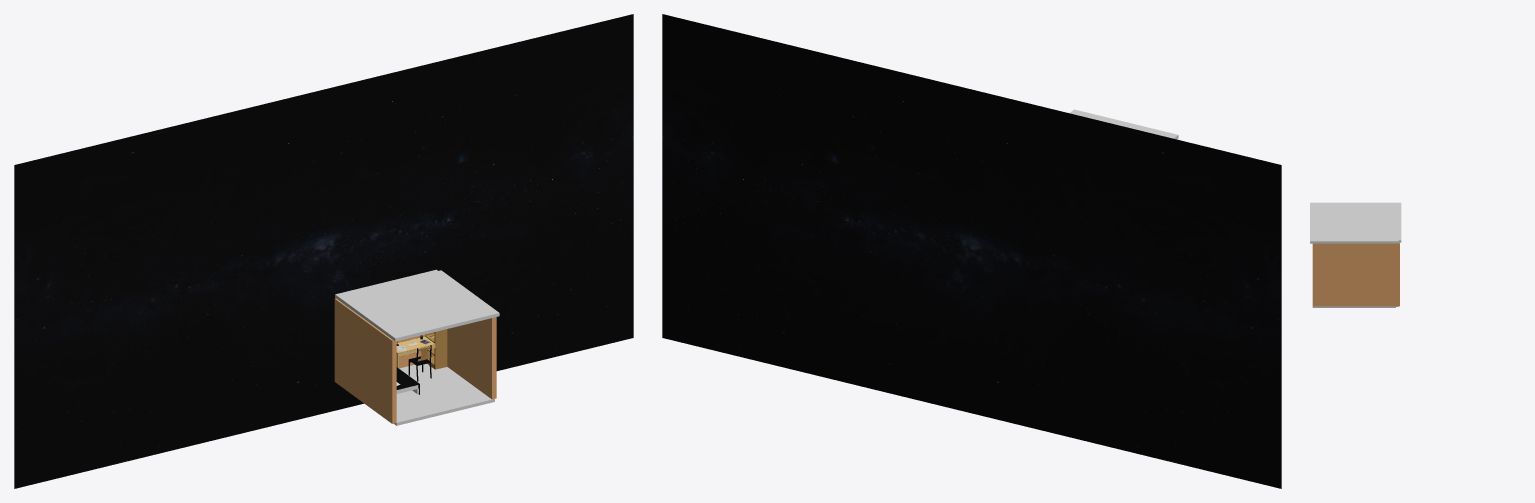
File: Escena2.glb
The picture shows the model from 3 angles, left to right: view 1: azimuth 30°, elevation 25°; view 2: azimuth 150°, elevation 25°; view 3: azimuth 270°, elevation 25°; orthographic projection. The views are drawn at different scales.
Parts seen in each view (by area): view 1: FondoUniverso, Techo, ParedLat.002, Piso, ParedLat.001; view 2: FondoUniverso; view 3: ParedLat.001, Techo.
Part boxes in pixels (x1,y1,x2,y2): FondoUniverso: (14,14,633,488); Techo: (335,269,499,341); ParedLat.002: (334,298,396,423); Piso: (394,363,494,425); ParedLat.001: (447,317,496,399); FondoUniverso: (662,14,1281,488); ParedLat.001: (1312,242,1399,306); Techo: (1310,202,1401,243).
Bounding box in the file's own units: 19.49 × 9.74 × 7.58.
37 materials, 21 textured.
